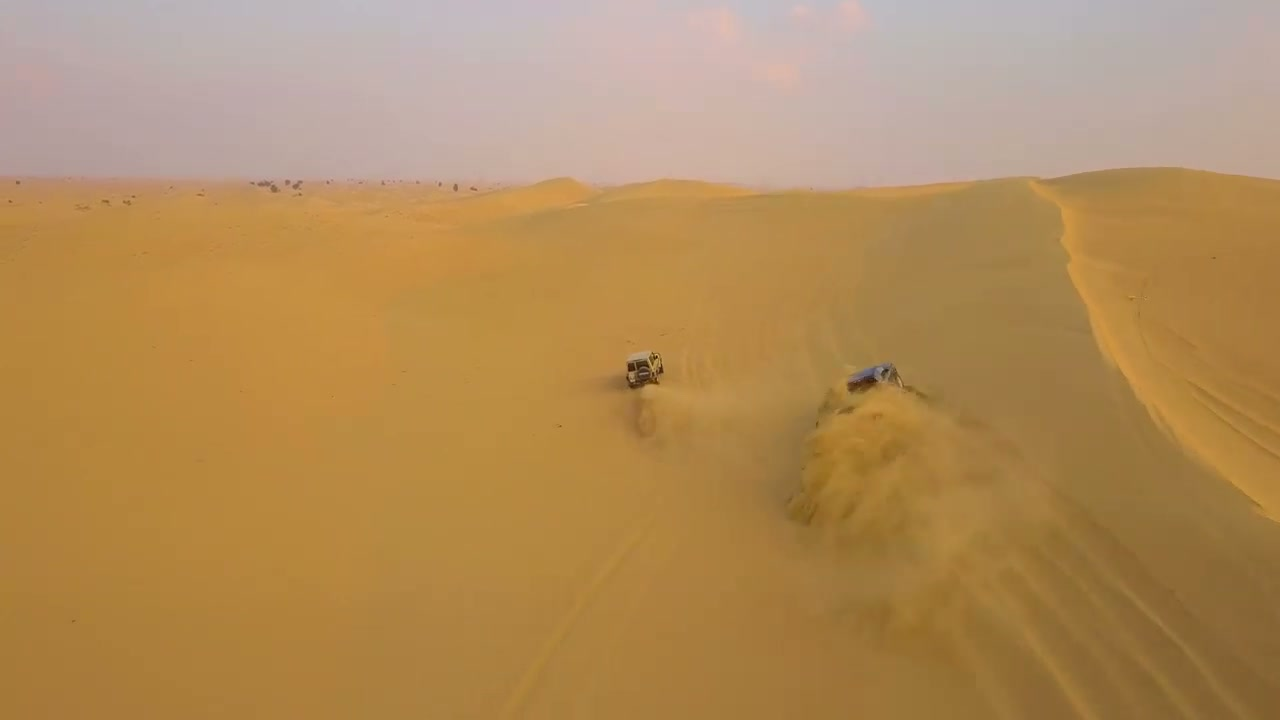vehicle_track: (982, 453, 1266, 713)
